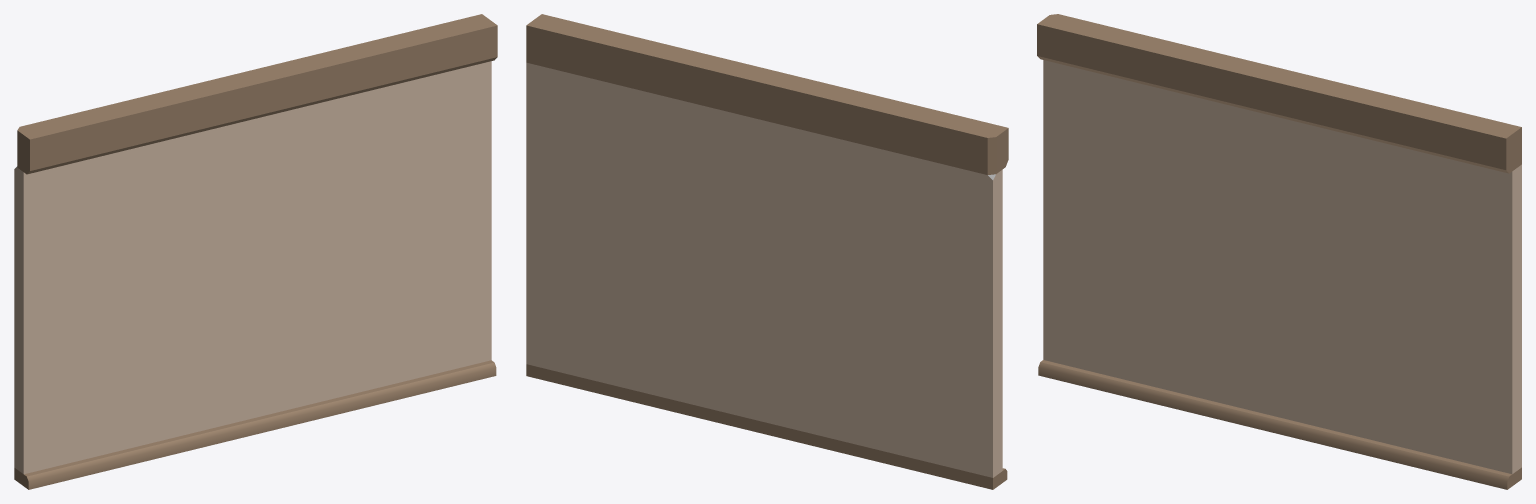
Rendered from WallSide.fbx.
3 renders of one model, left to right at view 1: azimuth 30°, elevation 25°; view 2: azimuth 150°, elevation 25°; view 3: azimuth 330°, elevation 25°, orthographic.
Visible parts, largest first — view 1: WallSide; view 2: WallSide; view 3: WallSide.
Part boxes in pixels (x1,y1,x2,y2): WallSide: (14,14,497,489); WallSide: (526,14,1008,489); WallSide: (1037,14,1521,489).
Bounding box in the file's own units: 3.73 × 2.68 × 0.2166.
